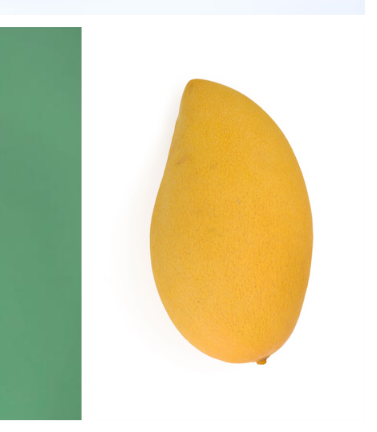mango: (150, 77, 313, 367)
